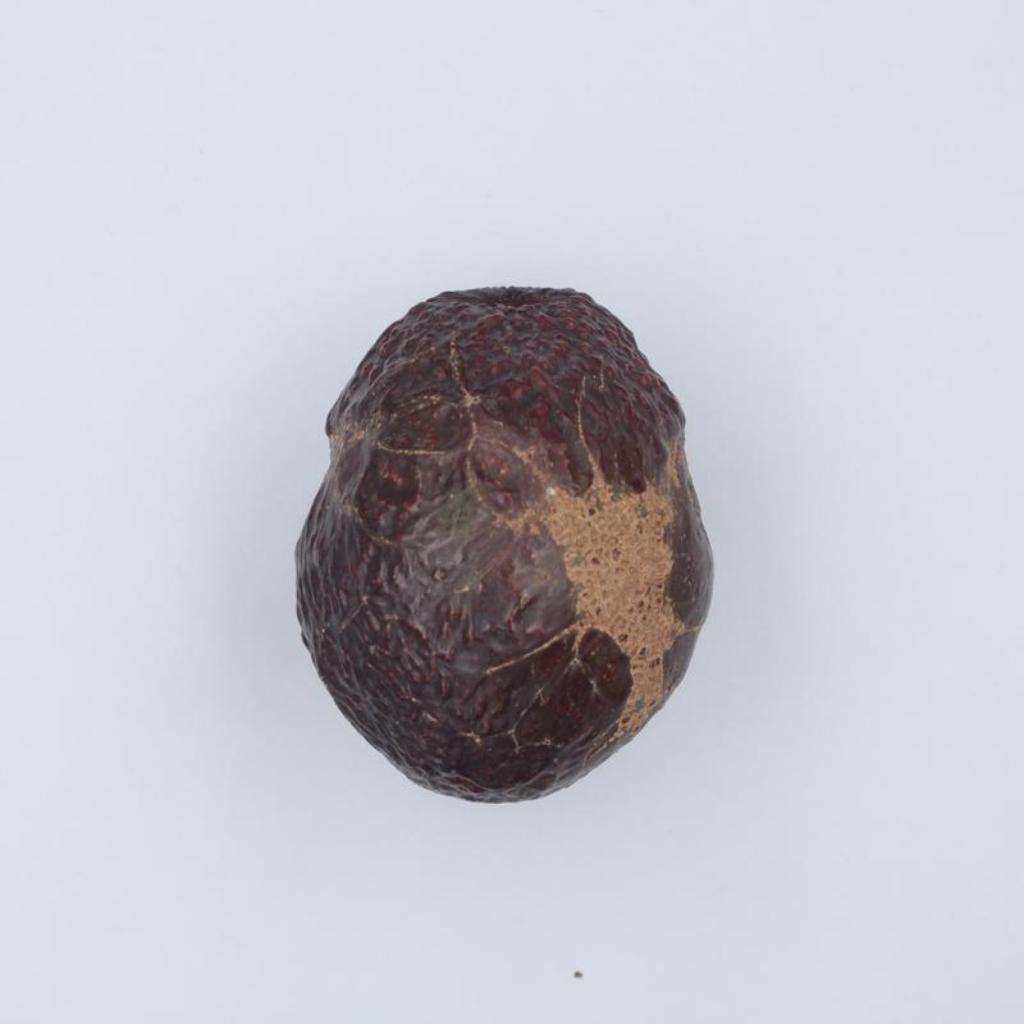rona: (297, 289, 712, 800)
